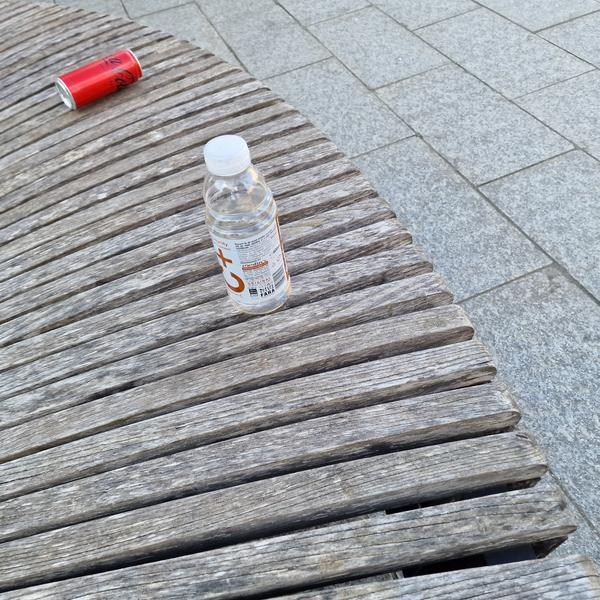can: (52, 43, 148, 115)
plastic_bottle: (186, 126, 302, 323)
